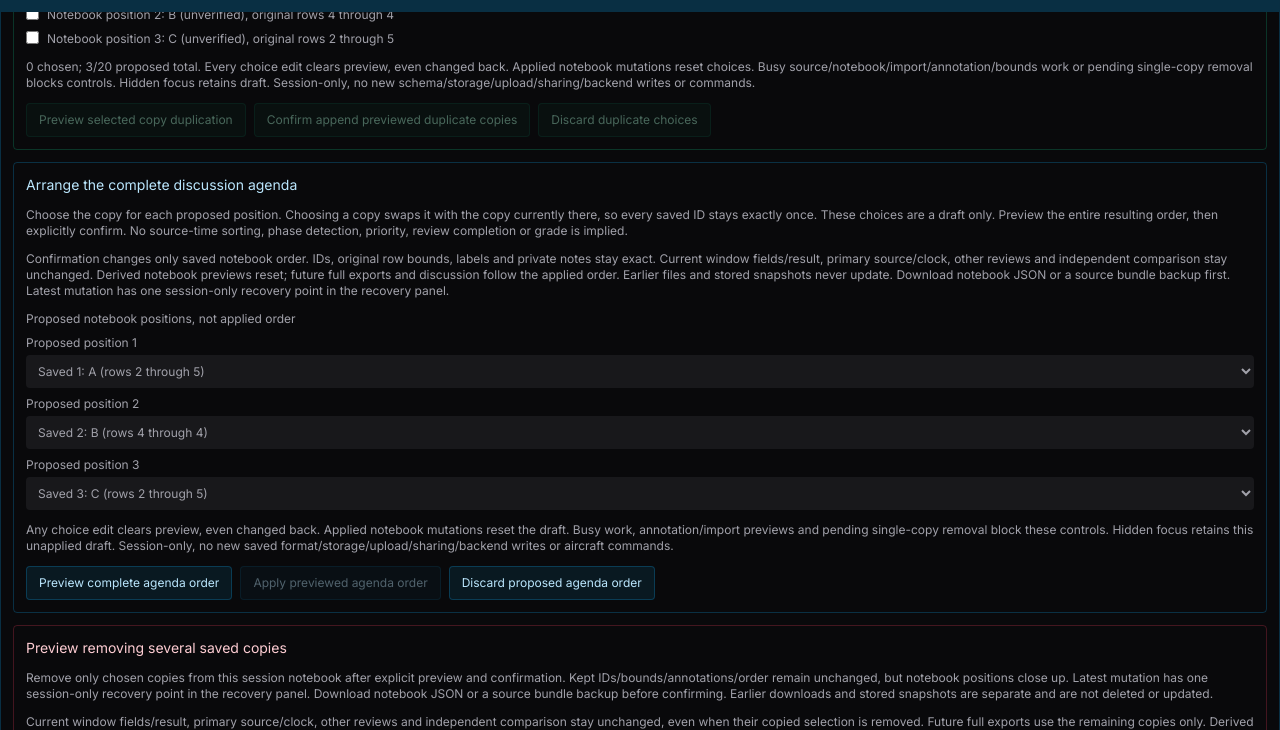
complete agenda draft preview and confirmation › integration retains hidden draft, confirmation resets derived tools but keeps exact source/current window and copy contents
(page scrolled)
Select "Saved 3: C (rows 2 through 5)" in the dropdown named "Proposed agenda position 1": (640, 372) [26, 355, 1254, 388]
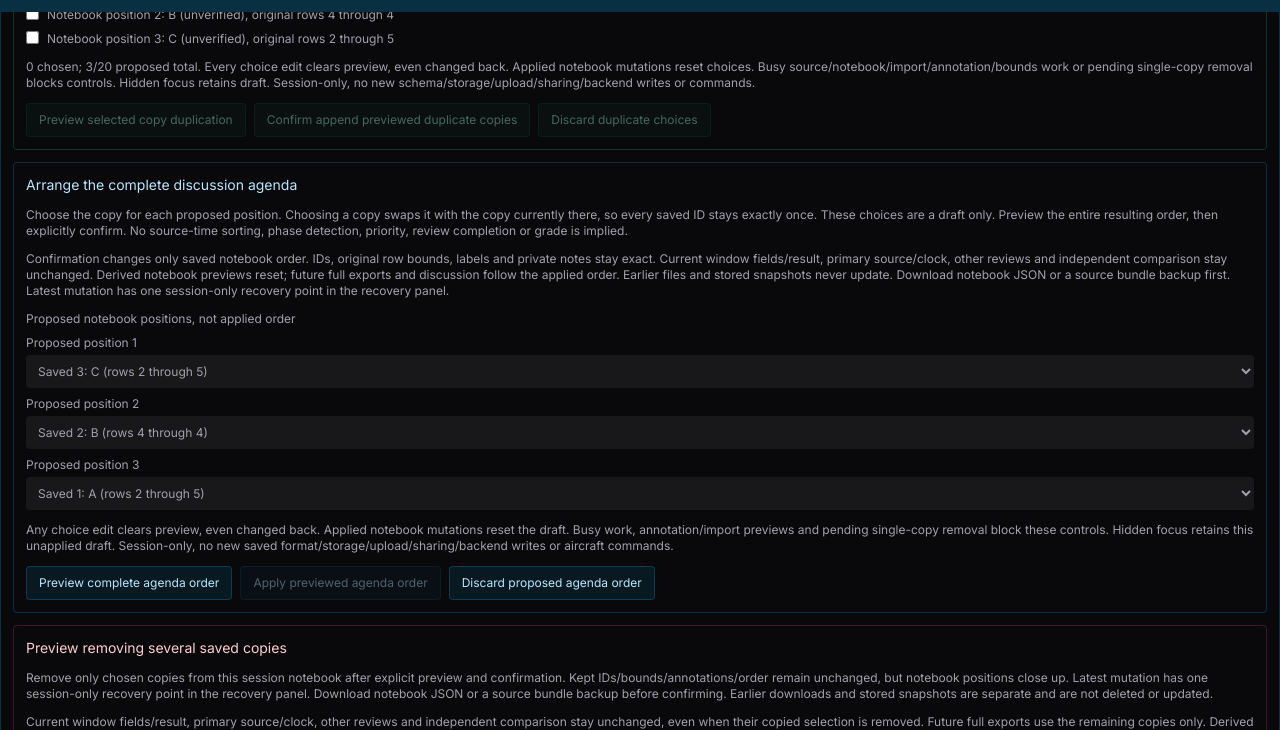
Click the button "Preview complete agenda order": (129, 583) [26, 566, 232, 600]
(page scrolled)
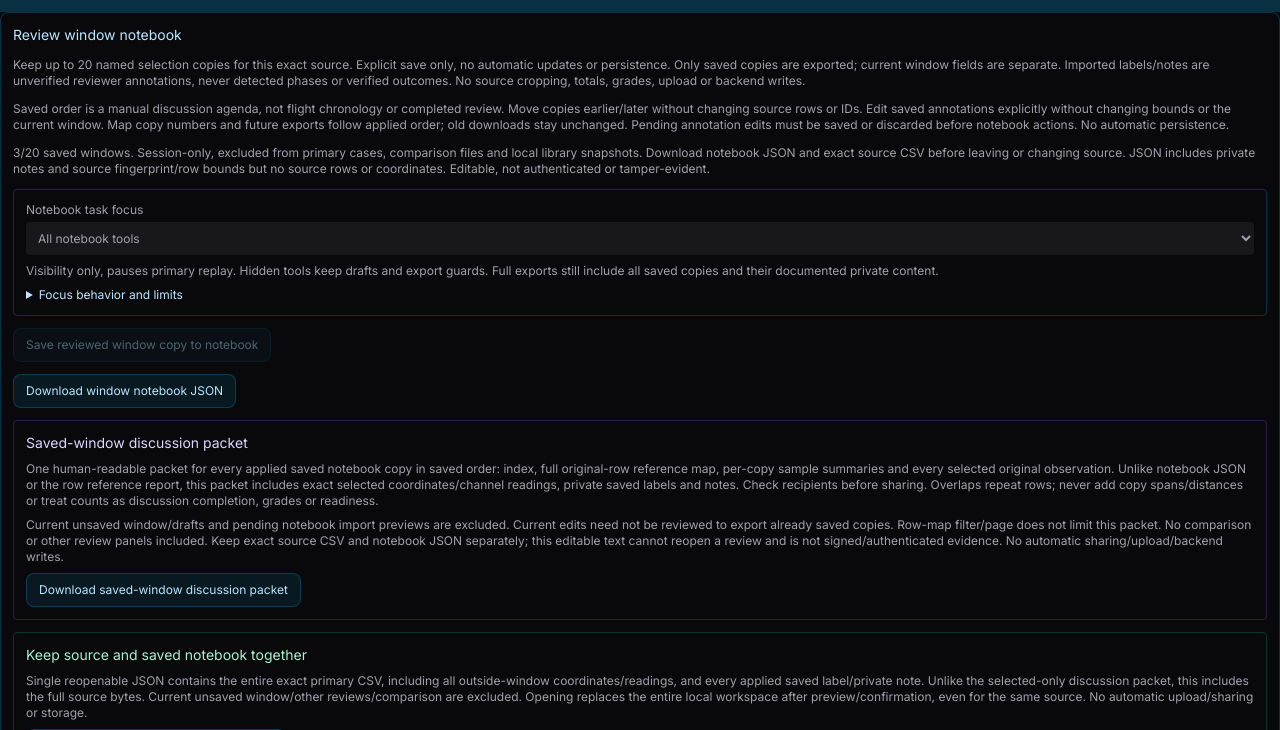
Select "Inspect recorded evidence" in the dropdown labelled "Notebook task focus": (640, 238) [26, 222, 1254, 255]
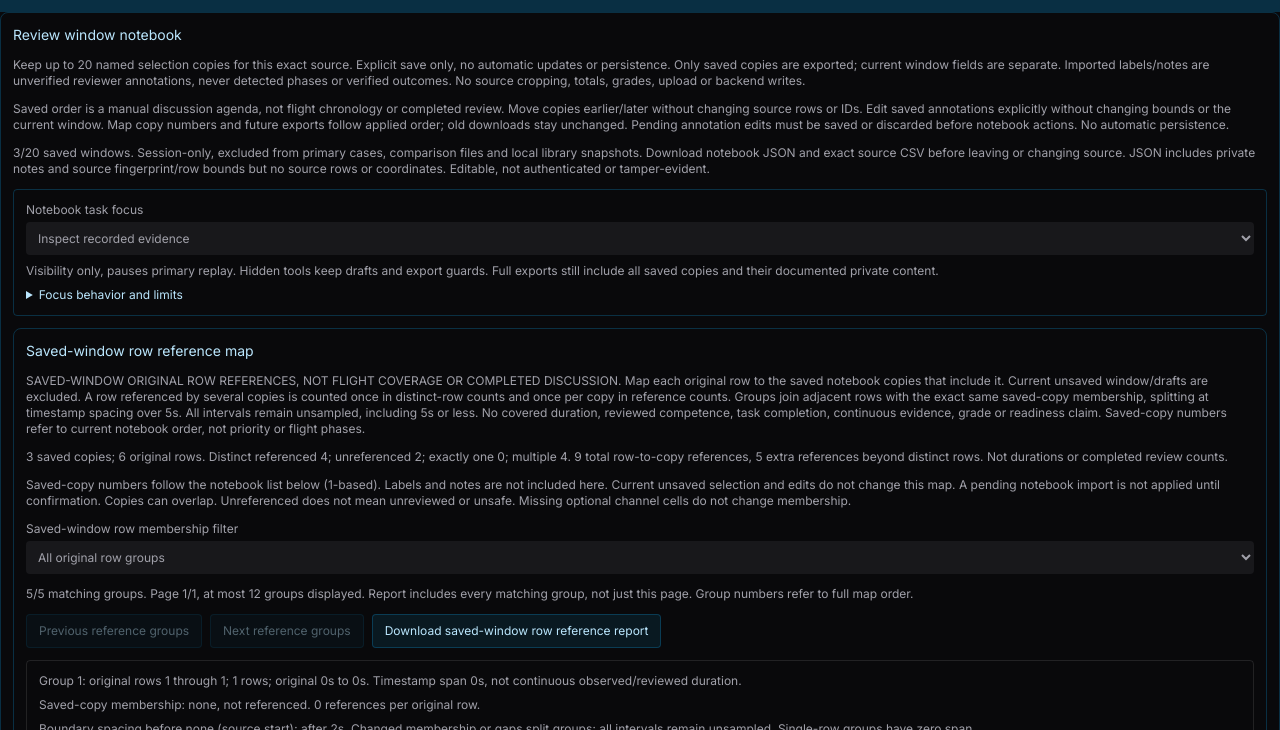
Select "Manage saved copies" in the dropdown labelled "Notebook task focus": (640, 238) [26, 222, 1254, 255]
(page scrolled)
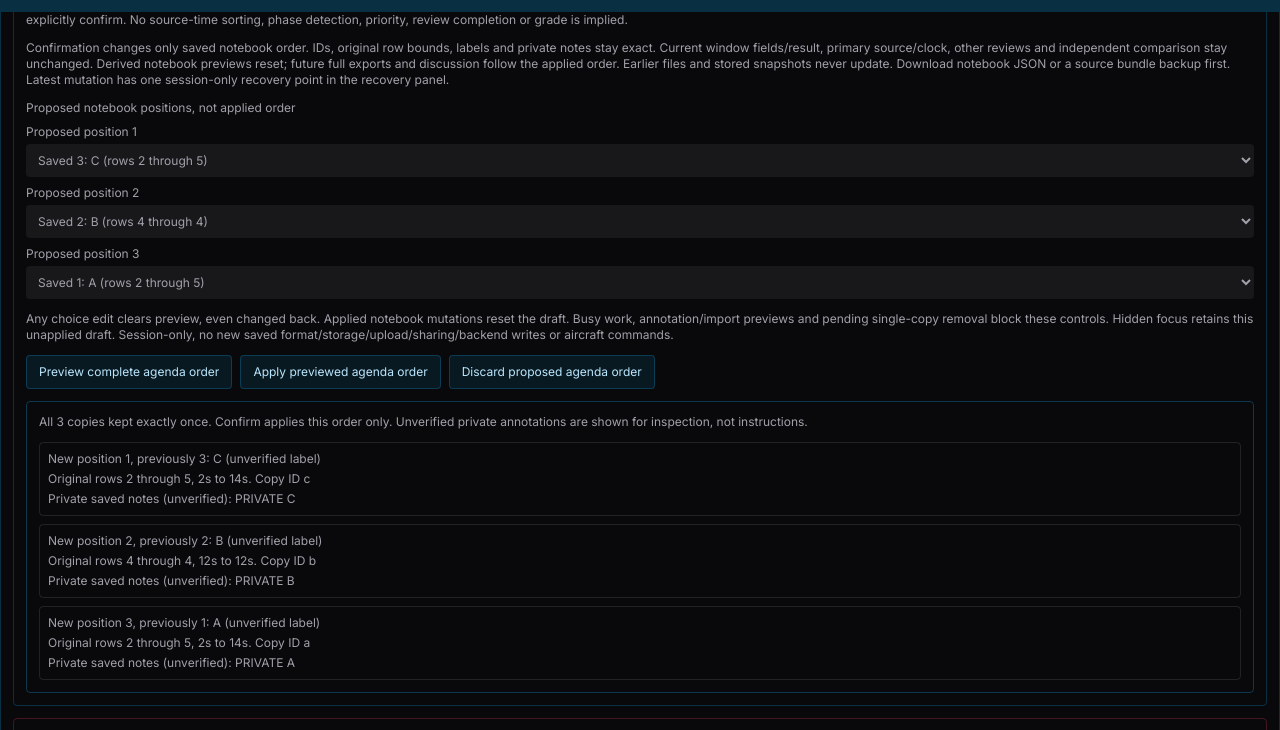
Click the button "Apply previewed agenda order": (341, 372) [240, 355, 441, 389]
(page scrolled)
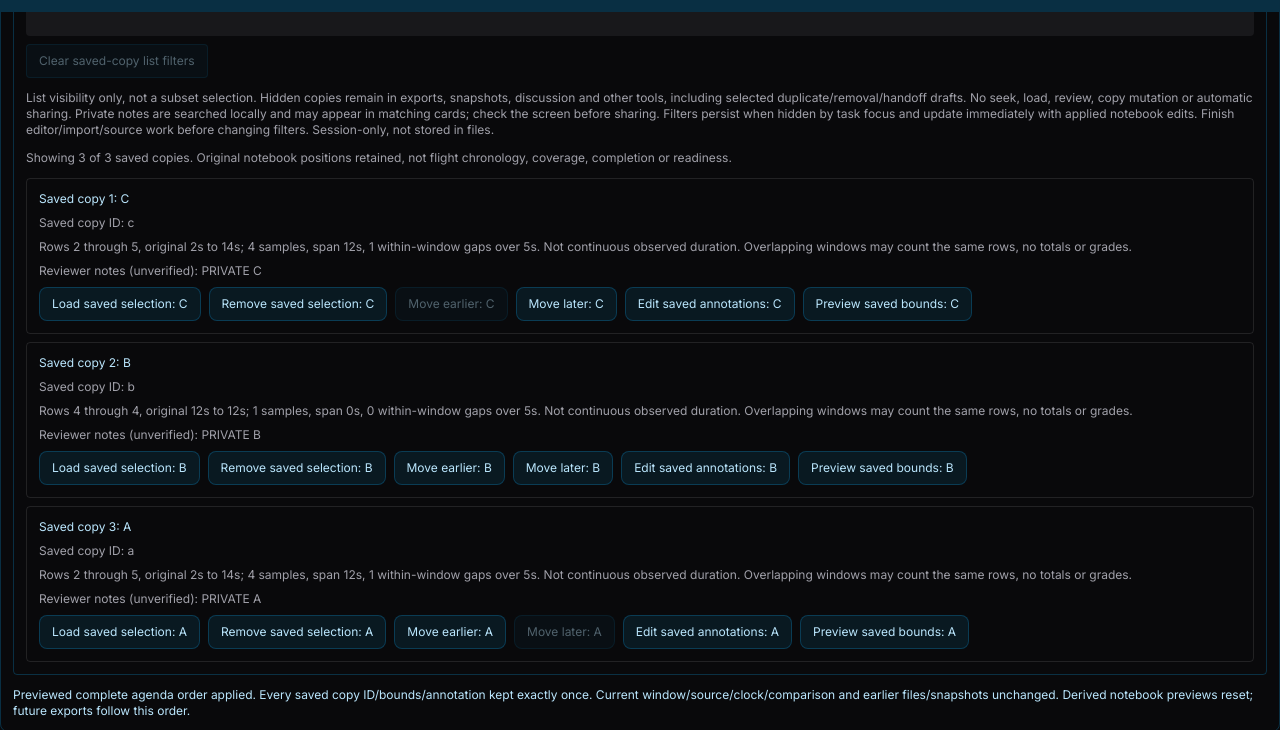
Expected: the text "Saved copy 1: C" is shown once, [39, 191, 129, 206]
Expected: the text "Previewed complete agenda order applied" is shown, [13, 687, 1253, 718]
